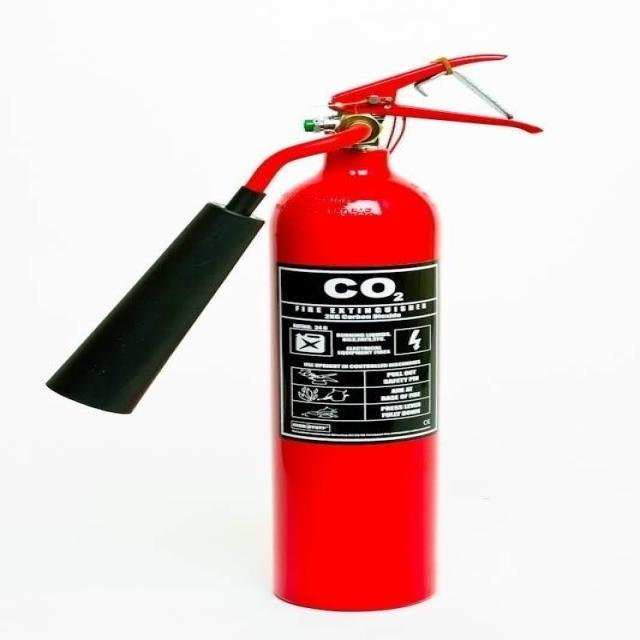fire_extinguisher: (34, 48, 554, 618)
